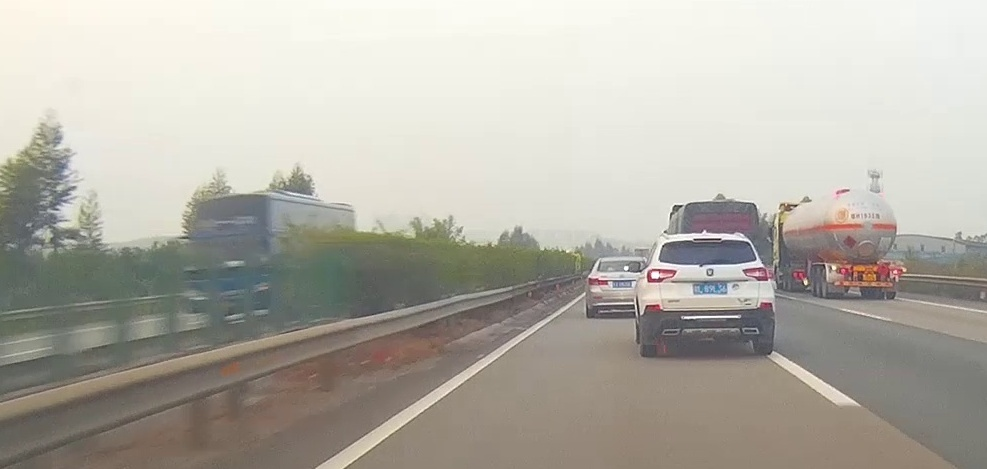L_light: (646, 269, 677, 283), (836, 268, 849, 274)
R_light: (742, 267, 768, 281), (891, 269, 903, 275)
T_light: (693, 237, 722, 241), (862, 263, 874, 265)
day-brake: (641, 232, 774, 357)
day-no: (824, 260, 907, 300)
